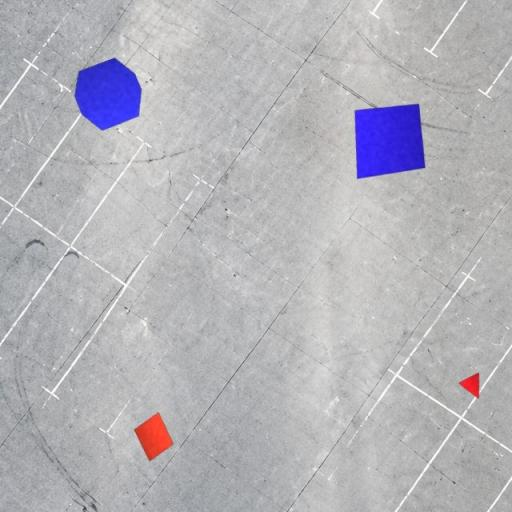BLUE_SQUARE: (354, 103, 426, 180)
RED_SQUARE: (134, 412, 174, 462)
